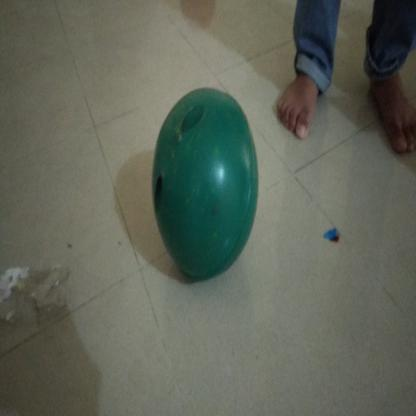green_buoy: (146, 84, 264, 282)
